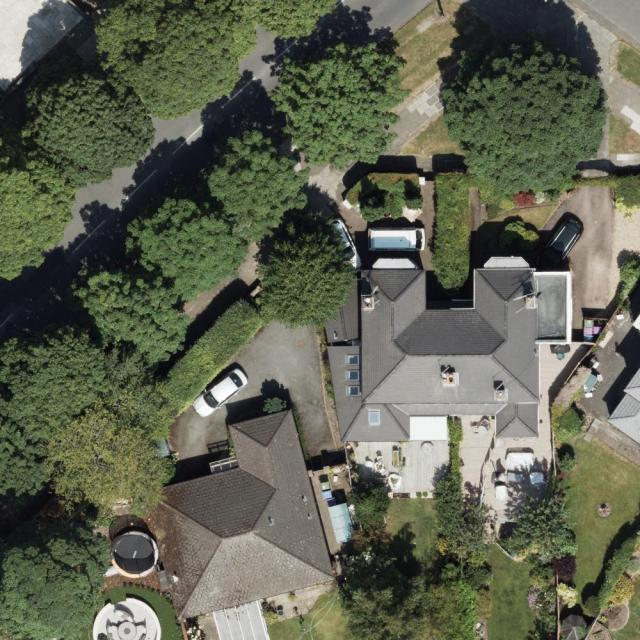roof: (314, 257, 571, 444), (142, 409, 337, 640), (605, 365, 640, 446)
skylight: (369, 408, 380, 427), (345, 384, 361, 397), (347, 369, 361, 381), (346, 354, 360, 366)
